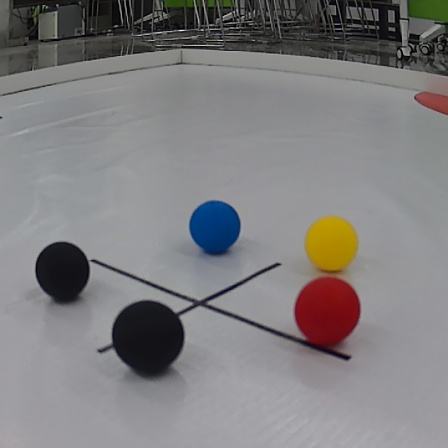black: (114, 299, 192, 372), (34, 241, 92, 297)
blue: (187, 194, 245, 252)
red: (294, 276, 362, 346)
red_base: (412, 79, 448, 115)
yellow: (309, 214, 361, 273)
